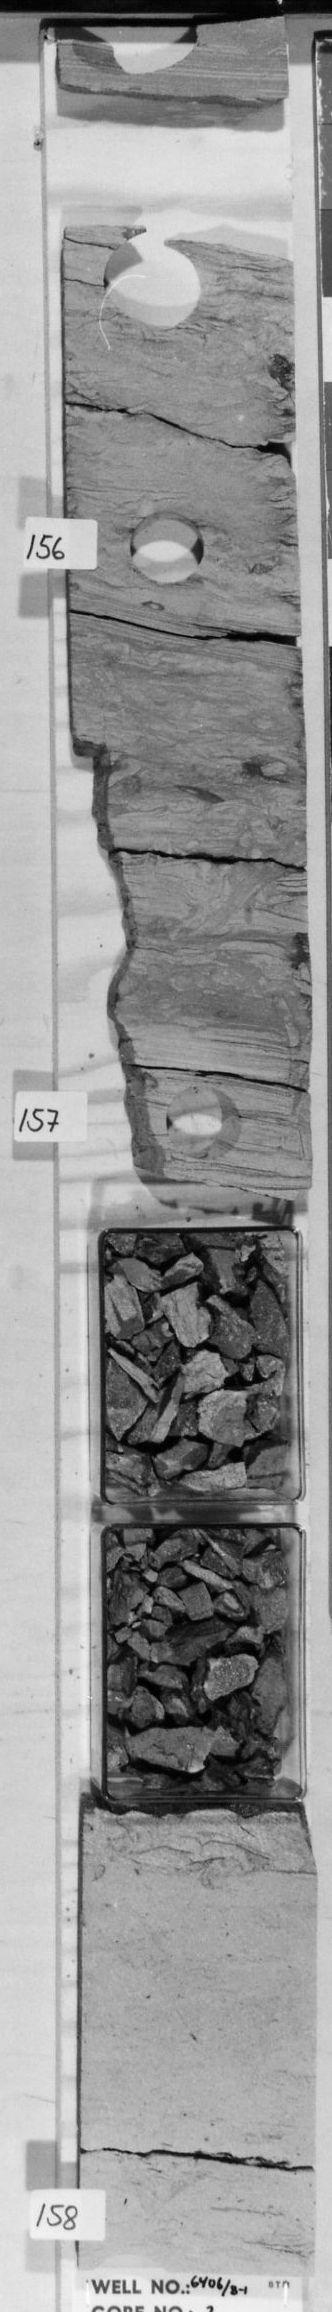hplug: (114, 503, 212, 591), (162, 1078, 246, 1168), (90, 2241, 171, 2280)
scal: (89, 231, 214, 336), (59, 27, 215, 83)
